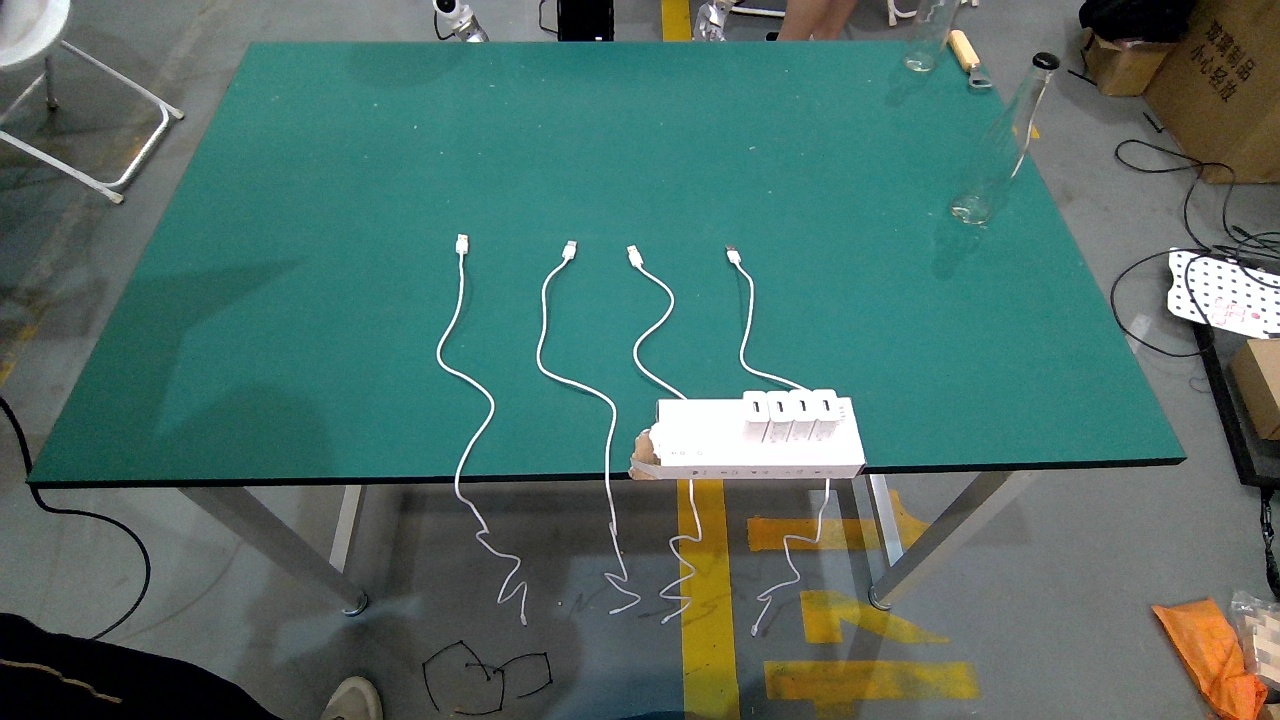usb_a_plug: (624, 243, 646, 273), (559, 237, 579, 268), (724, 241, 744, 270), (456, 233, 468, 260)
